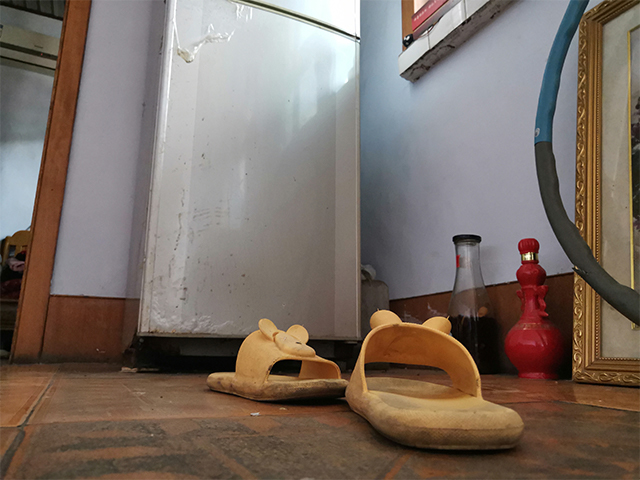slippers: (349, 310, 529, 452), (205, 314, 349, 402)
